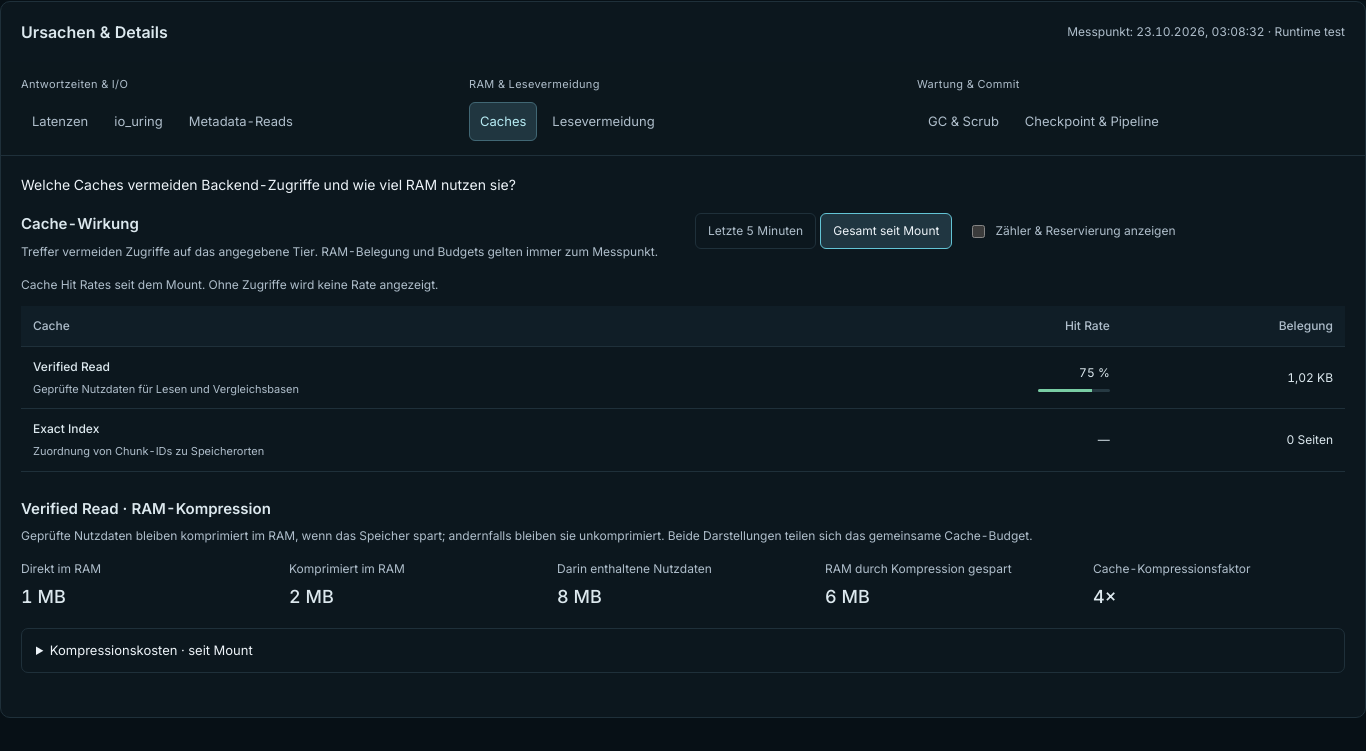
Test case: surfaces the compressed-tier admission rate instead of only its cost
Click the heading "Kompressionskosten · seit Mount": (151, 650) [50,642,253,658]
(page scrolled)
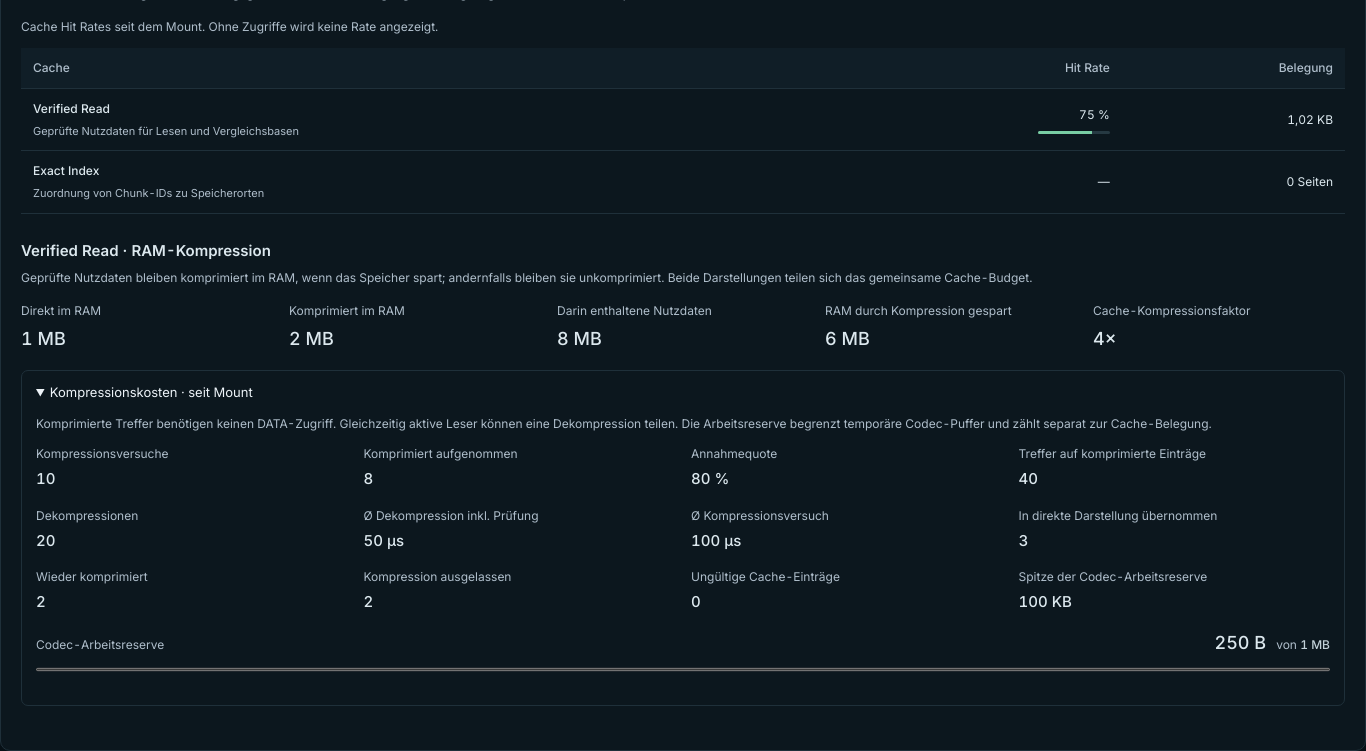
Expected: the text "8" is shown, [364,469,373,488]
Expected: the text "80 %" is shown, [691,469,729,488]
